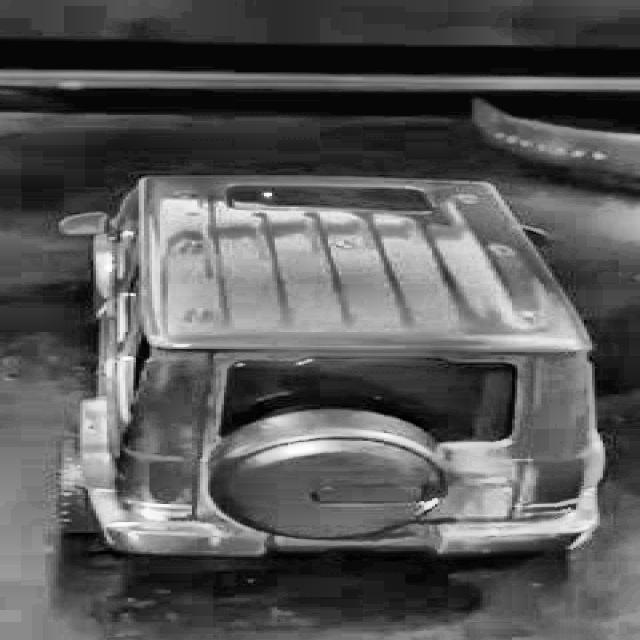light_vehicle: (42, 156, 621, 560)
